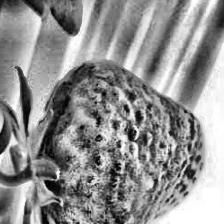Gray Mold: (37, 59, 207, 224)
